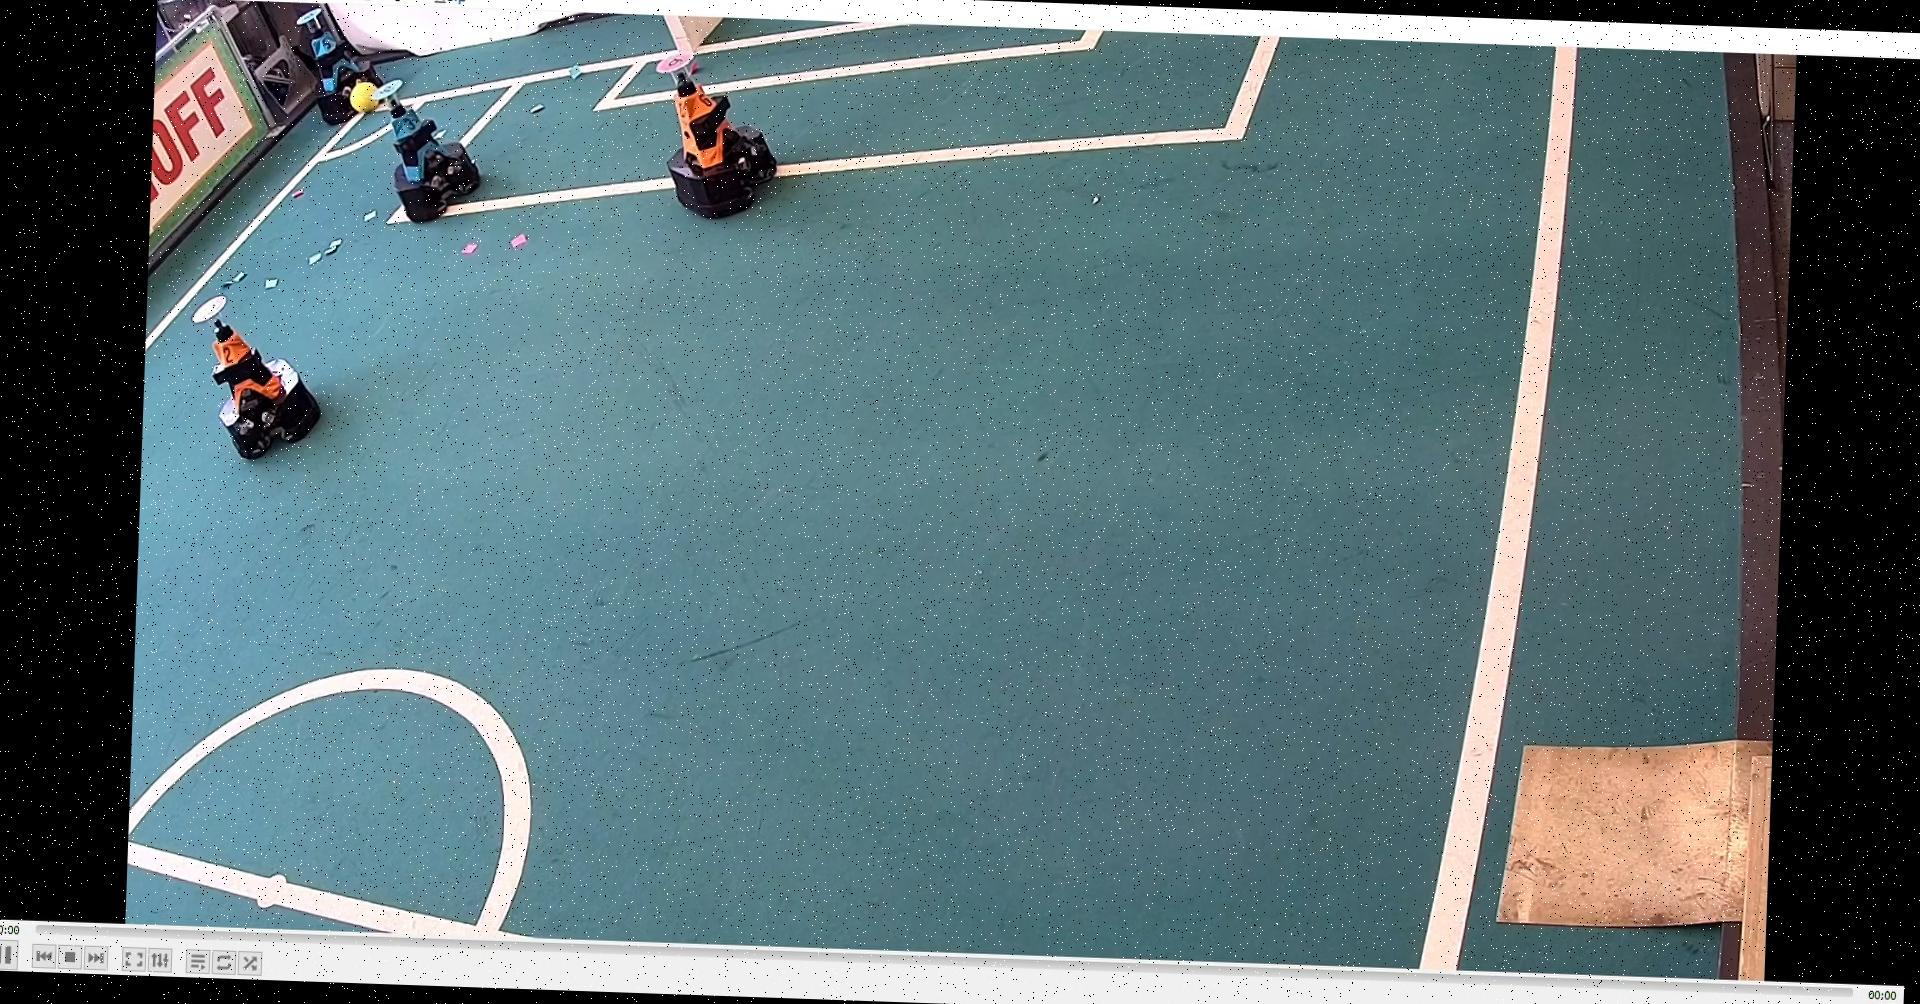Ball: (344, 75, 389, 123)
Team_Blue: (368, 74, 488, 235), (290, 4, 400, 127)
Team_Red: (184, 288, 334, 467), (649, 43, 786, 223)
